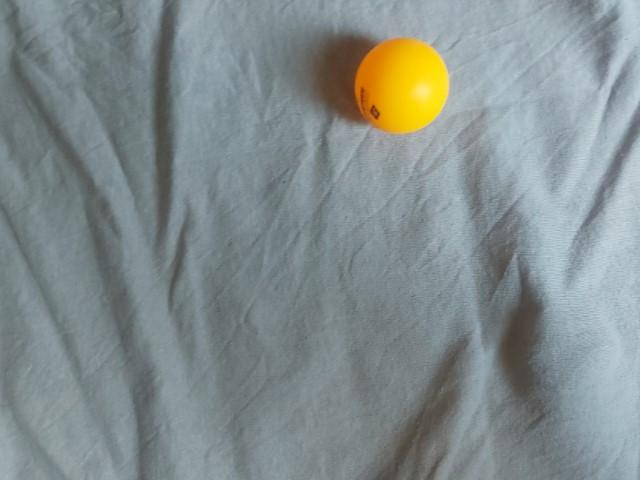oball: (179, 340, 294, 449)
